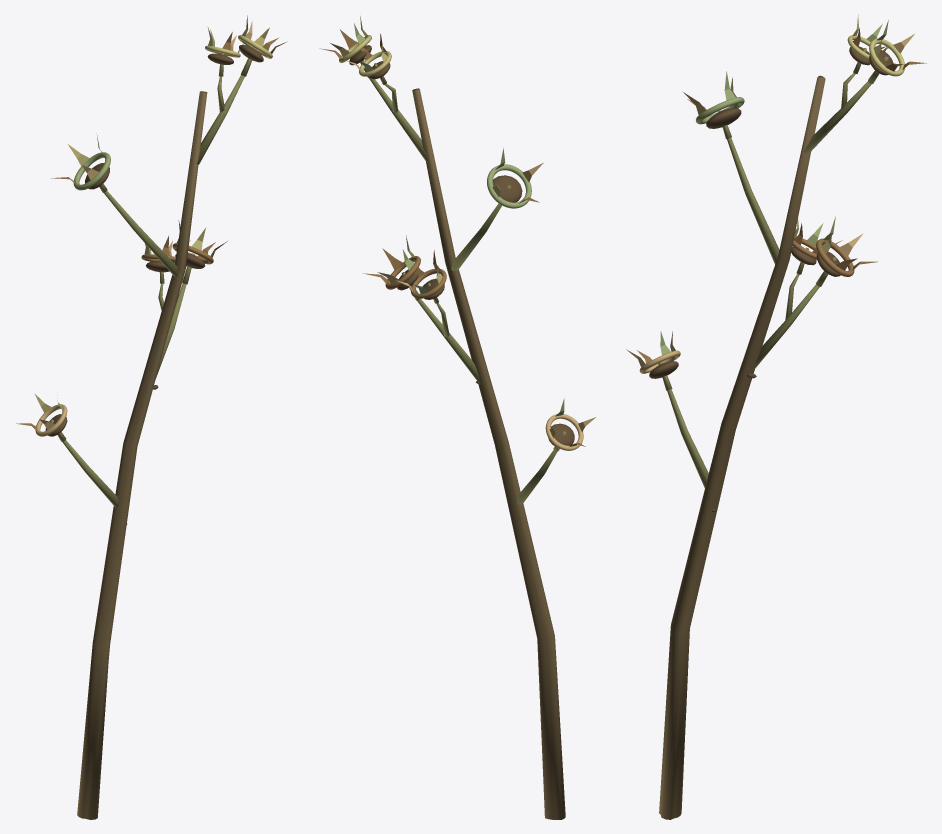
The model's file is branch_variant_A_mature_white_01.dae.
3 views of the same model, side by side, from view 1: azimuth 30°, elevation 25°; view 2: azimuth 150°, elevation 25°; view 3: azimuth 330°, elevation 25° (orthographic). The views are drawn at different scales.
Visible parts, largest first — view 1: branch_main_A_01, socket_A_04, socket_A_06, socket_A_01, branch_side_A_03, socket_A_03, branch_side_A_04, socket_A_05, branch_side_A_01, socket_A_02; view 2: branch_main_A_01, socket_A_04, socket_A_01, socket_A_03, socket_A_02, socket_A_06, socket_A_05, branch_side_A_02, branch_side_A_04, branch_side_A_03; view 3: branch_main_A_01, socket_A_03, socket_A_04, socket_A_06, branch_side_A_03, socket_A_01, branch_side_A_01, socket_A_02, branch_side_A_02, branch_side_A_04, socket_A_05.
Boxes of the visible parts, x1,y1,x2,y2 form: branch_main_A_01: [77, 91, 207, 819]; socket_A_04: [51, 133, 110, 190]; socket_A_06: [238, 15, 287, 62]; socket_A_01: [16, 393, 67, 436]; branch_side_A_03: [104, 191, 177, 276]; socket_A_03: [172, 220, 227, 268]; branch_side_A_04: [191, 75, 244, 164]; socket_A_05: [205, 27, 245, 64]; branch_side_A_01: [62, 440, 118, 508]; socket_A_02: [141, 236, 190, 272]; branch_main_A_01: [412, 88, 565, 819]; socket_A_04: [487, 148, 543, 208]; socket_A_01: [545, 398, 595, 450]; socket_A_03: [363, 235, 420, 290]; socket_A_02: [396, 250, 446, 299]; socket_A_06: [319, 16, 371, 65]; socket_A_05: [345, 33, 391, 79]; branch_side_A_02: [417, 298, 480, 384]; branch_side_A_04: [369, 78, 433, 161]; branch_side_A_03: [449, 204, 502, 270]; branch_main_A_01: [659, 75, 825, 819]; socket_A_03: [816, 216, 877, 276]; socket_A_04: [683, 71, 744, 128]; socket_A_06: [869, 20, 926, 76]; branch_side_A_03: [727, 138, 779, 264]; socket_A_01: [626, 331, 680, 378]; branch_side_A_01: [667, 389, 708, 488]; socket_A_02: [791, 219, 842, 265]; branch_side_A_02: [751, 284, 819, 372]; branch_side_A_04: [802, 81, 871, 153]; socket_A_05: [847, 14, 898, 65].
Size of the model in its own units: 0.2335 by 0.0741 by 0.6308.
